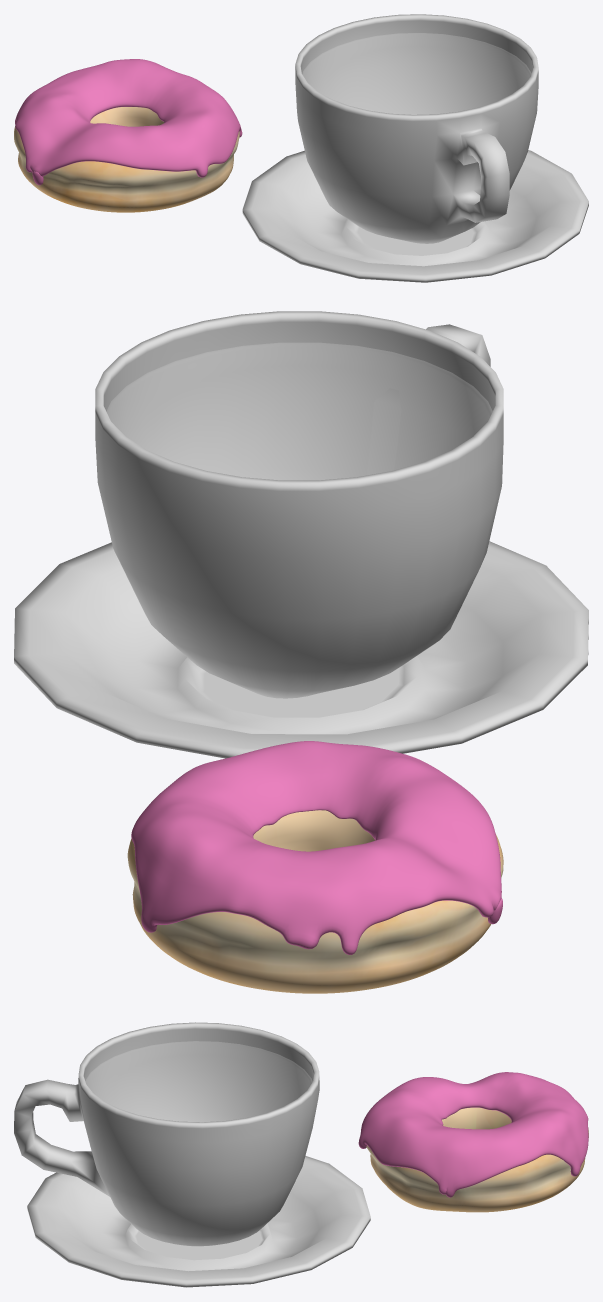
The model's file is donut.glb.
The picture shows the model from 3 angles, top to bottom: view 1: azimuth 30°, elevation 25°; view 2: azimuth 150°, elevation 25°; view 3: azimuth 270°, elevation 25°; orthographic projection. The views are drawn at different scales.
Parts seen in each view (by area): view 1: Cup, Saucer, Icing, Liquid, Donut; view 2: Cup, Saucer, Icing, Liquid, Donut; view 3: Cup, Saucer, Icing, Liquid, Donut.
Boxes of the visible parts, box(x1,y1,x2,y2) form: Cup: box(295, 14, 538, 243); Saucer: box(242, 150, 588, 282); Icing: box(15, 59, 242, 185); Liquid: box(303, 33, 531, 114); Donut: box(14, 107, 239, 212); Cup: box(95, 311, 503, 698); Saucer: box(14, 541, 588, 758); Icing: box(131, 741, 502, 954); Liquid: box(107, 343, 492, 479); Donut: box(127, 810, 503, 993); Cup: box(14, 1022, 319, 1246); Saucer: box(27, 1156, 370, 1287); Icing: box(358, 1072, 588, 1197); Liquid: box(85, 1041, 312, 1121); Donut: box(366, 1107, 588, 1212).
Size of what is drawn, in the model's own units: 0.3101 by 0.1345 by 0.3889.
Materials: 4 (1 with a texture image).
